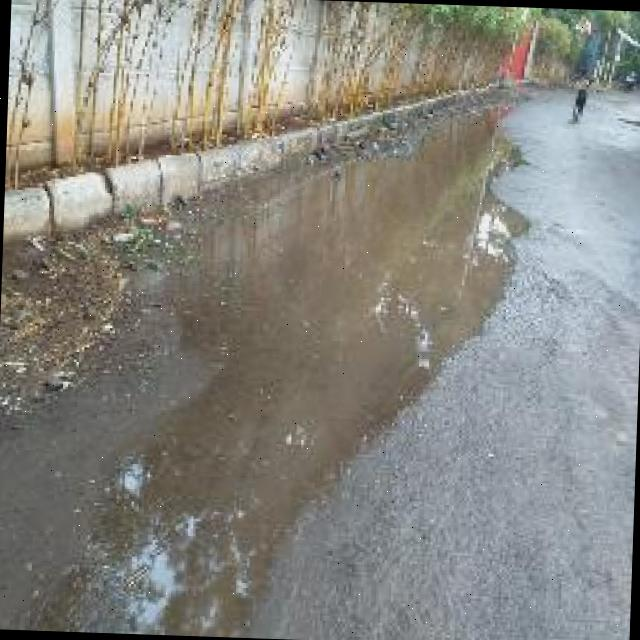stagnation: (116, 148, 468, 502)
